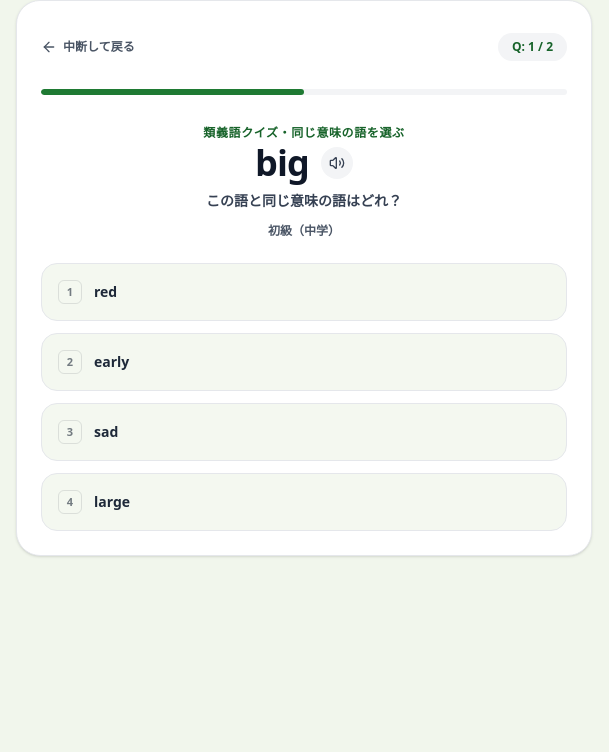
Test: 類義語クイズ › 同じ意味の語を選ぶと正解になり、解説に両方の訳が出る
Expected: the text "この語と同じ意味の語はどれ？" is shown, [206,191,402,210]
Click the button "4 large": (112, 502) [41,473,567,531]
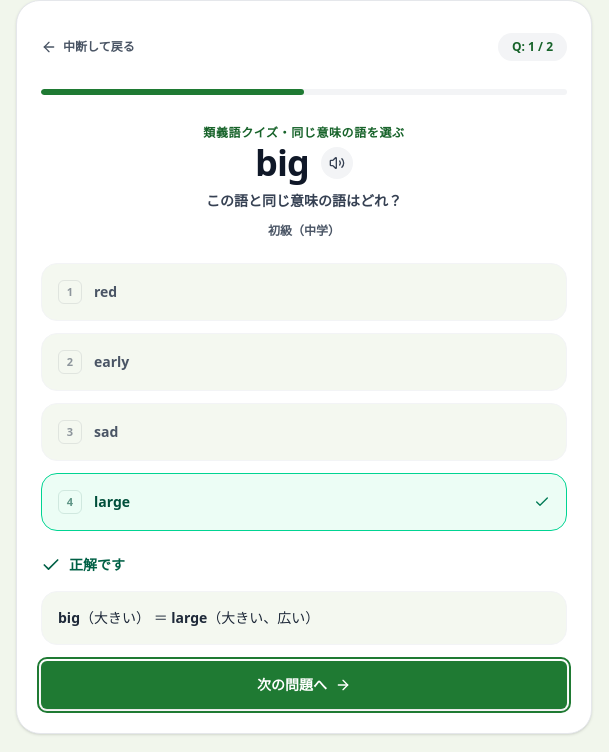
Expected: the message reads "正解です", [69,555,125,574]
Expected: the element with id "choice_quiz_feedback" shows "large", [171,608,207,627]
